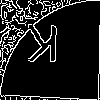K: (25, 24, 60, 72)
